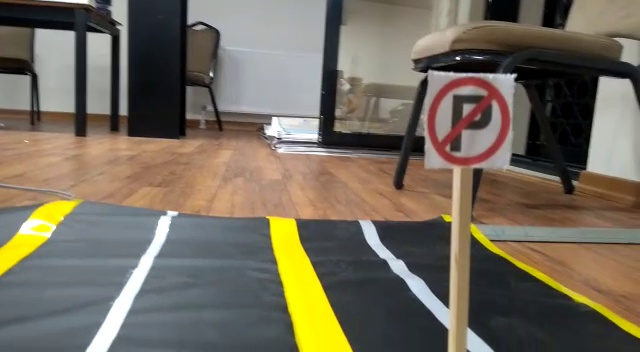park_yapilmaz: (423, 71, 513, 167)
